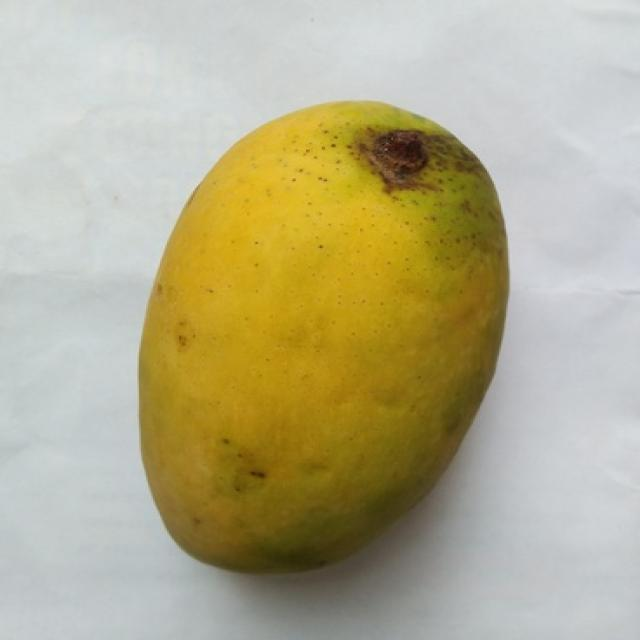Mango: (141, 103, 506, 572)
